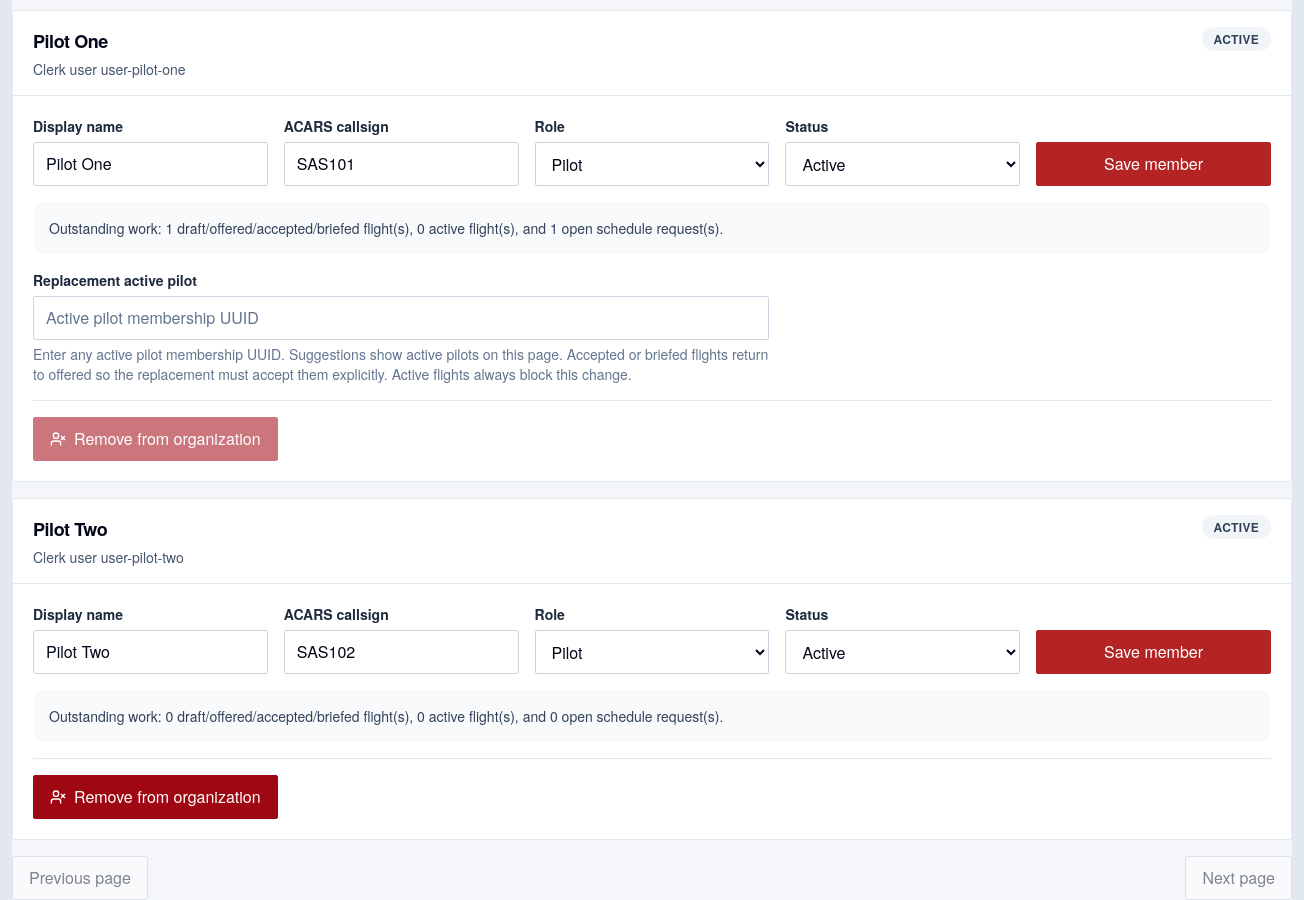
Scenario: admin member console › confirms and performs complete organization removal
This screenshot has width=1304, height=900.
(page scrolled)
Step 1. Click the button "Remove from organization" below "Clerk user user-pilot-two" → (155, 797), box [33,775,278,819]
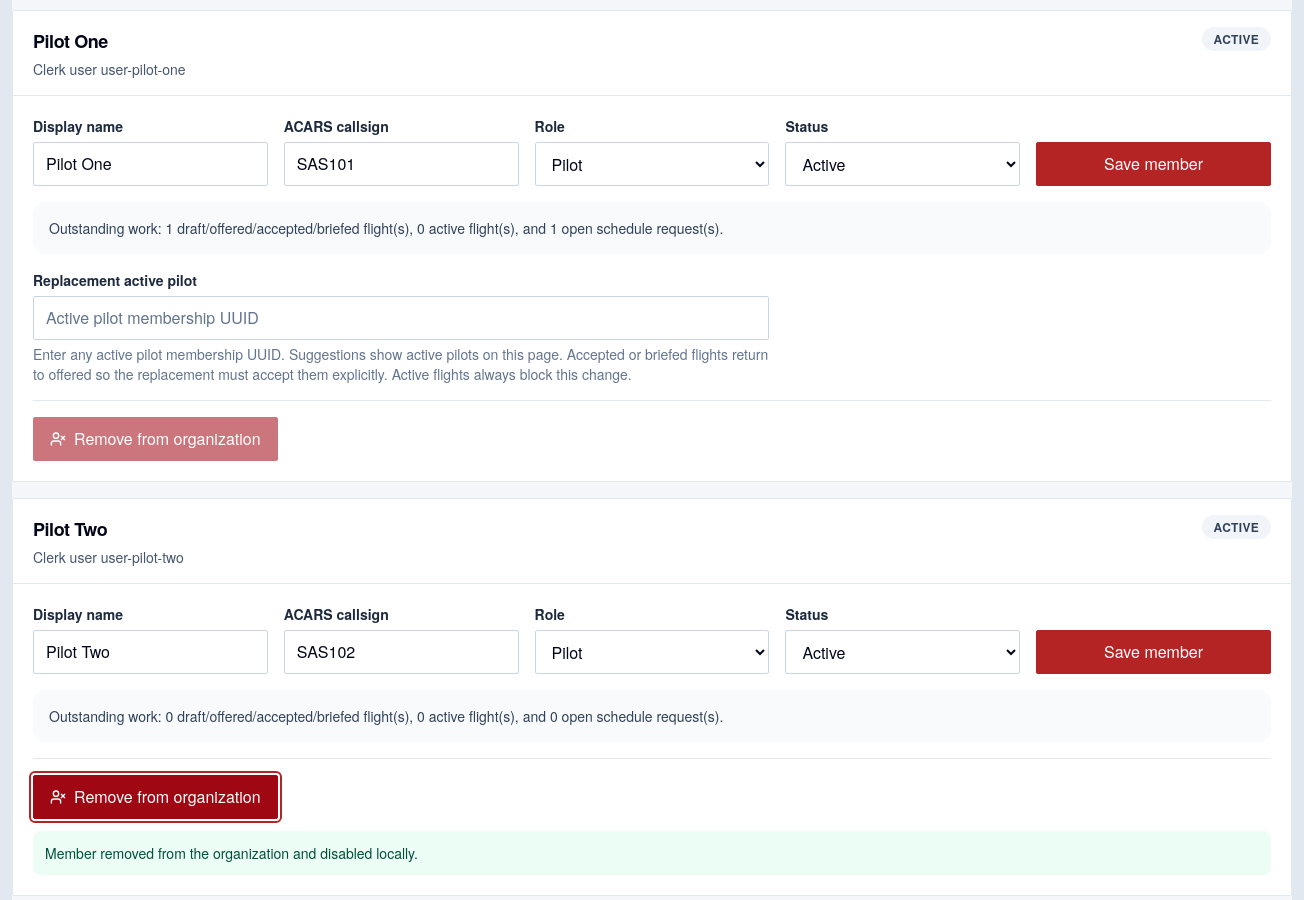
Now the text "Member removed from the organization and disabled locally." is shown, box [33,831,1271,875]
